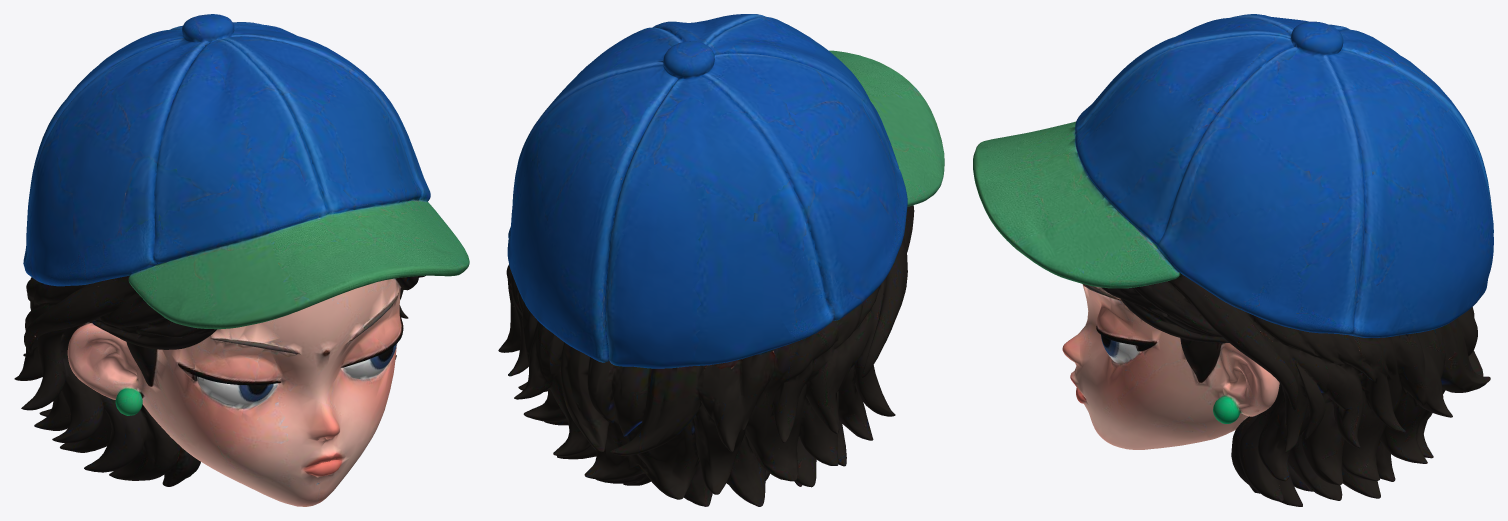
Rendered from avatar.glb.
3 views of the same model, side by side, from view 1: azimuth 30°, elevation 25°; view 2: azimuth 150°, elevation 25°; view 3: azimuth 270°, elevation 25° (orthographic). The views are drawn at different scales.
Visible parts, largest first — view 1: Mesh_0; view 2: Mesh_0; view 3: Mesh_0.
Part boxes in pixels (x1,y1,x2,y2): Mesh_0: (14, 14, 469, 506); Mesh_0: (498, 14, 944, 506); Mesh_0: (973, 14, 1493, 506).
Bounding box in the file's own units: 1.65 × 1.74 × 1.9.
1 material, 1 textured.
